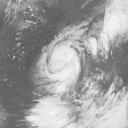cyclone: (46, 42, 81, 88)
